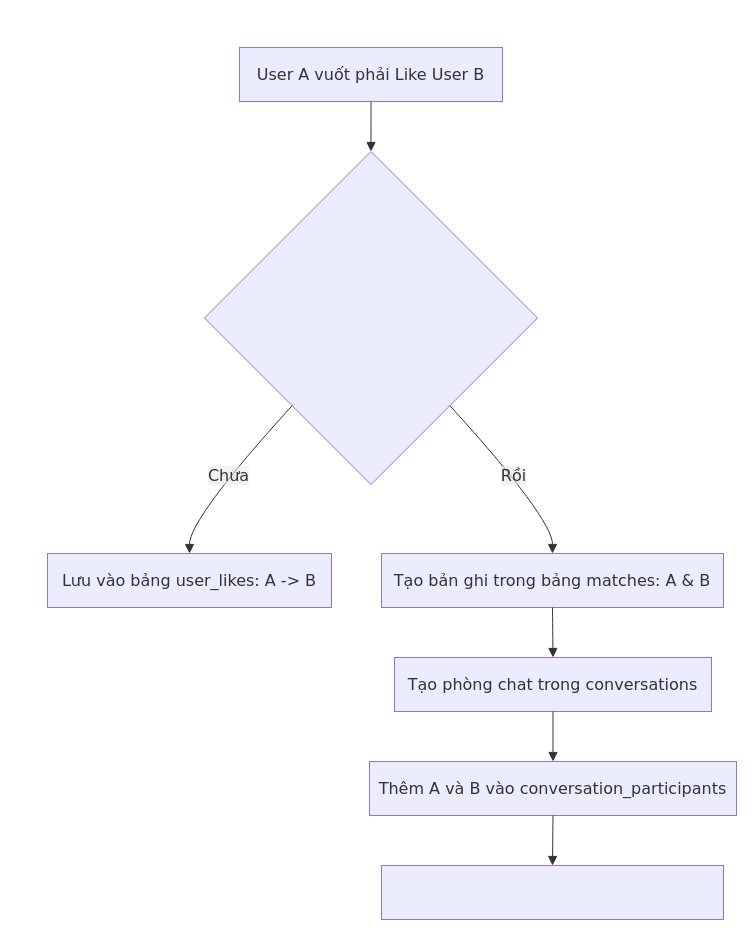
This 754x937 diagram has some shape labels left out. Each missing label, with the centre of its shape:
Hiển thị Popup 'It's a Match!' cho User A: (x=552, y=892)
User B đã Like User A chưa?: (x=371, y=317)
